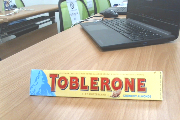Chocolate: (22, 62, 170, 108)
